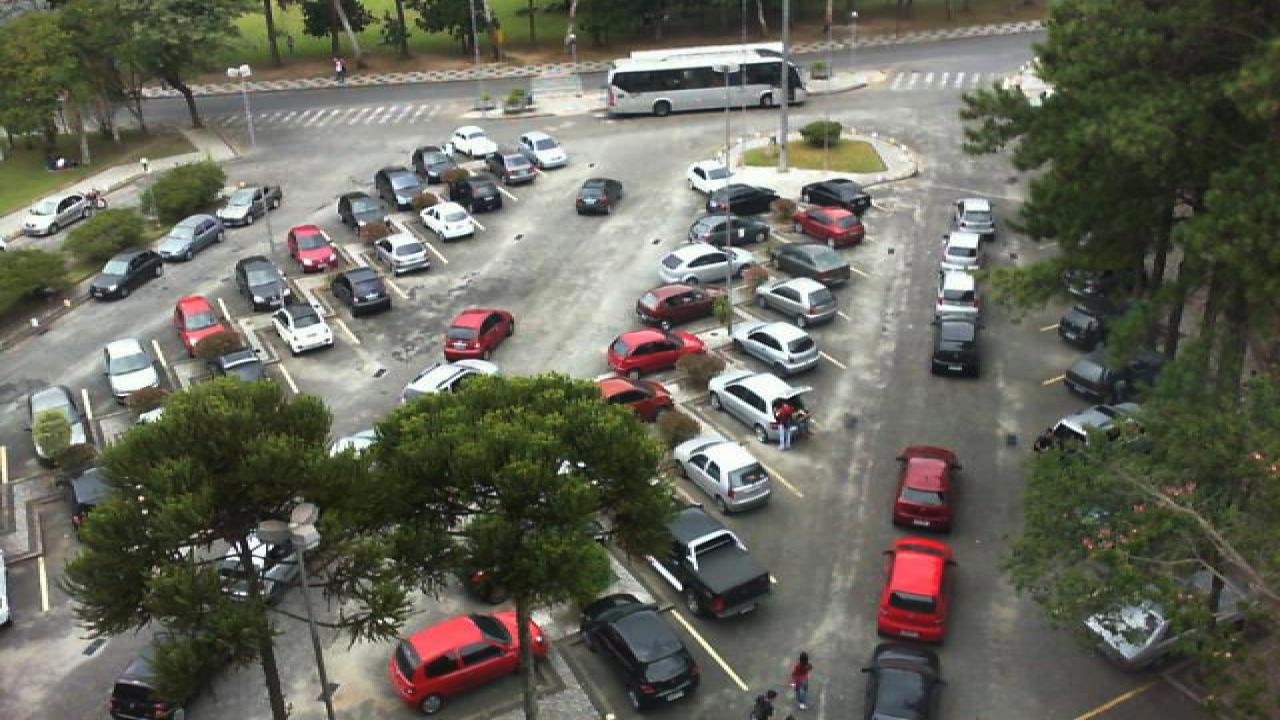Car: (388, 611, 544, 713), (650, 506, 776, 619), (580, 593, 702, 709), (666, 434, 772, 516), (876, 536, 956, 644), (1082, 592, 1190, 669), (706, 369, 810, 439), (860, 641, 946, 720), (890, 444, 962, 534), (108, 653, 204, 720), (732, 319, 824, 377), (608, 326, 712, 377), (1060, 350, 1154, 403), (398, 358, 502, 402), (756, 278, 840, 330), (656, 242, 752, 287), (594, 373, 680, 423), (20, 192, 110, 238), (86, 251, 168, 301), (766, 242, 852, 289), (442, 307, 514, 362), (104, 339, 162, 405), (154, 214, 230, 263), (636, 281, 720, 325), (1056, 402, 1146, 443), (172, 294, 228, 358), (926, 315, 982, 378), (790, 202, 866, 248), (278, 300, 338, 356), (686, 210, 770, 248), (796, 177, 874, 216), (328, 268, 390, 316), (216, 184, 284, 226), (234, 254, 286, 308), (286, 222, 340, 274), (422, 200, 482, 243), (374, 232, 432, 276), (704, 182, 774, 218), (934, 270, 980, 324), (212, 348, 272, 387), (444, 124, 504, 161), (338, 192, 384, 238), (948, 198, 996, 242), (518, 132, 572, 171), (574, 178, 624, 217), (458, 173, 504, 214), (374, 164, 418, 206), (940, 233, 980, 279), (684, 160, 738, 194), (492, 150, 542, 186), (412, 144, 450, 182)
